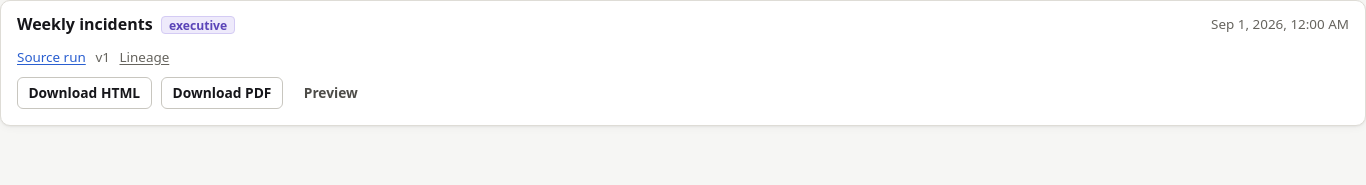
ReportRow › surfaces a download error
What coordinates should you click on to do the following:
click the button "Download PDF"
I would click on:
 (222, 93)
Its box is left=161, top=77, right=283, bottom=109.
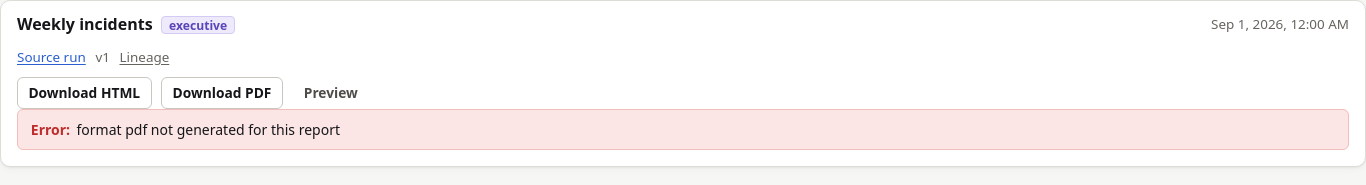
Expected: the text "format pdf not generated for this report" is shown, left=76, top=119, right=340, bottom=140
